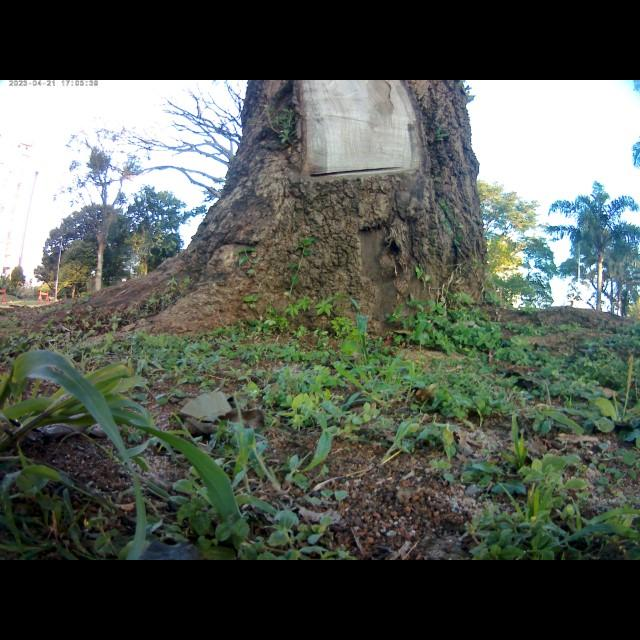arvore: (4, 81, 489, 346)
